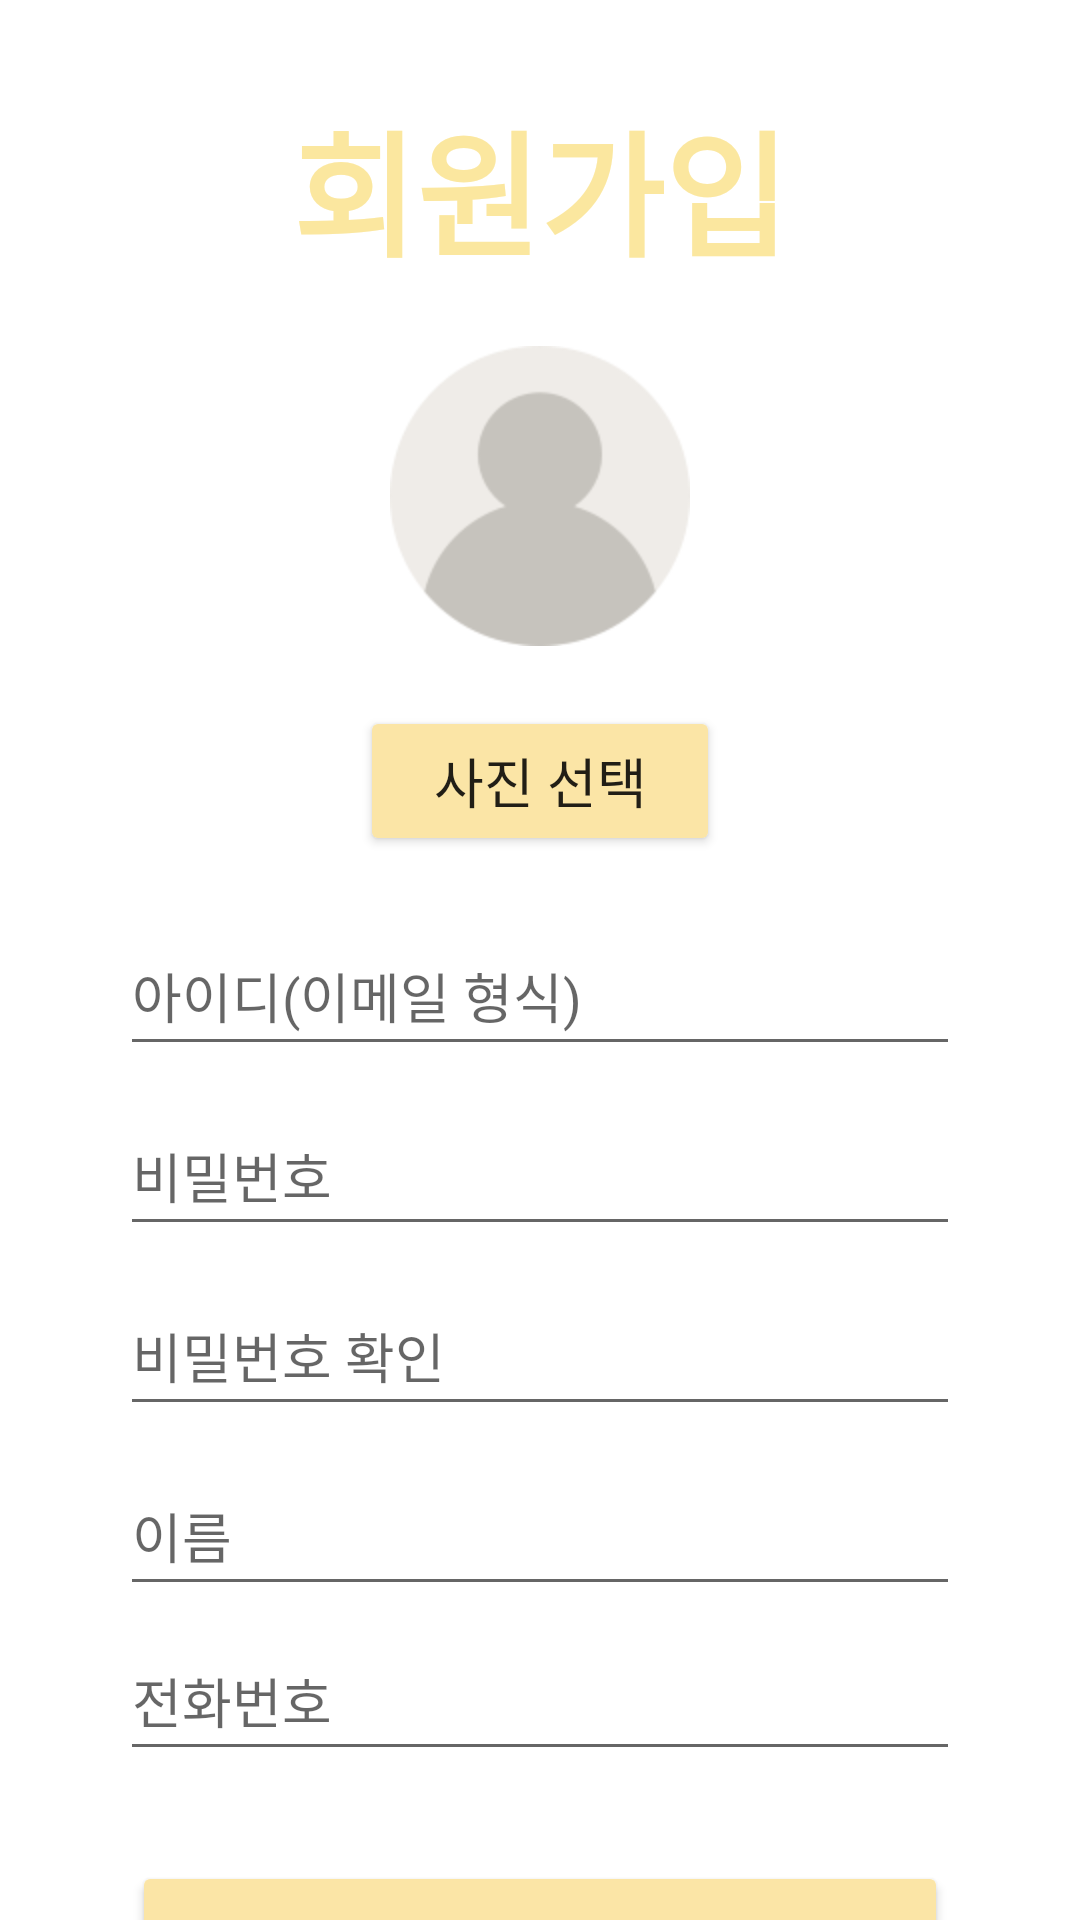

Icon bounding boxes for this 1080x1920 phone screenshot, format (x1, y1, x2, y2):
imageicon: (424, 391, 656, 646)
